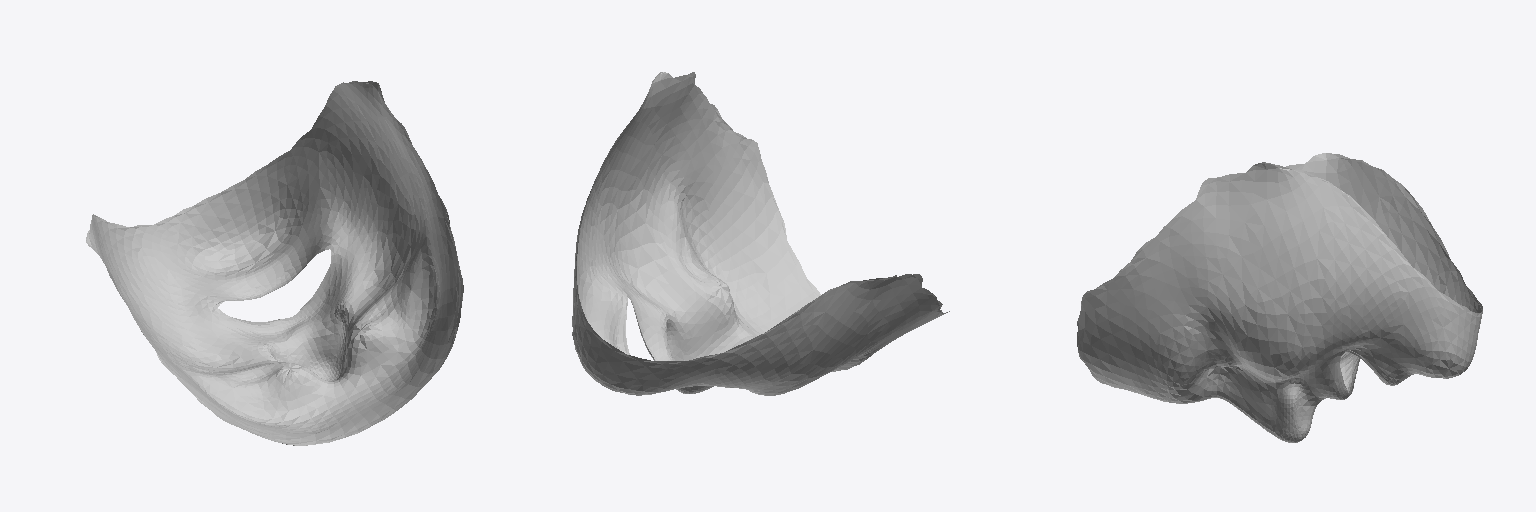
Rendered from face_gab_sfm91.obj.
3 views of the same model, side by side, from view 1: azimuth 30°, elevation 25°; view 2: azimuth 150°, elevation 25°; view 3: azimuth 270°, elevation 25° (orthographic).
Size of the model in its own units: 167 by 163 by 200.